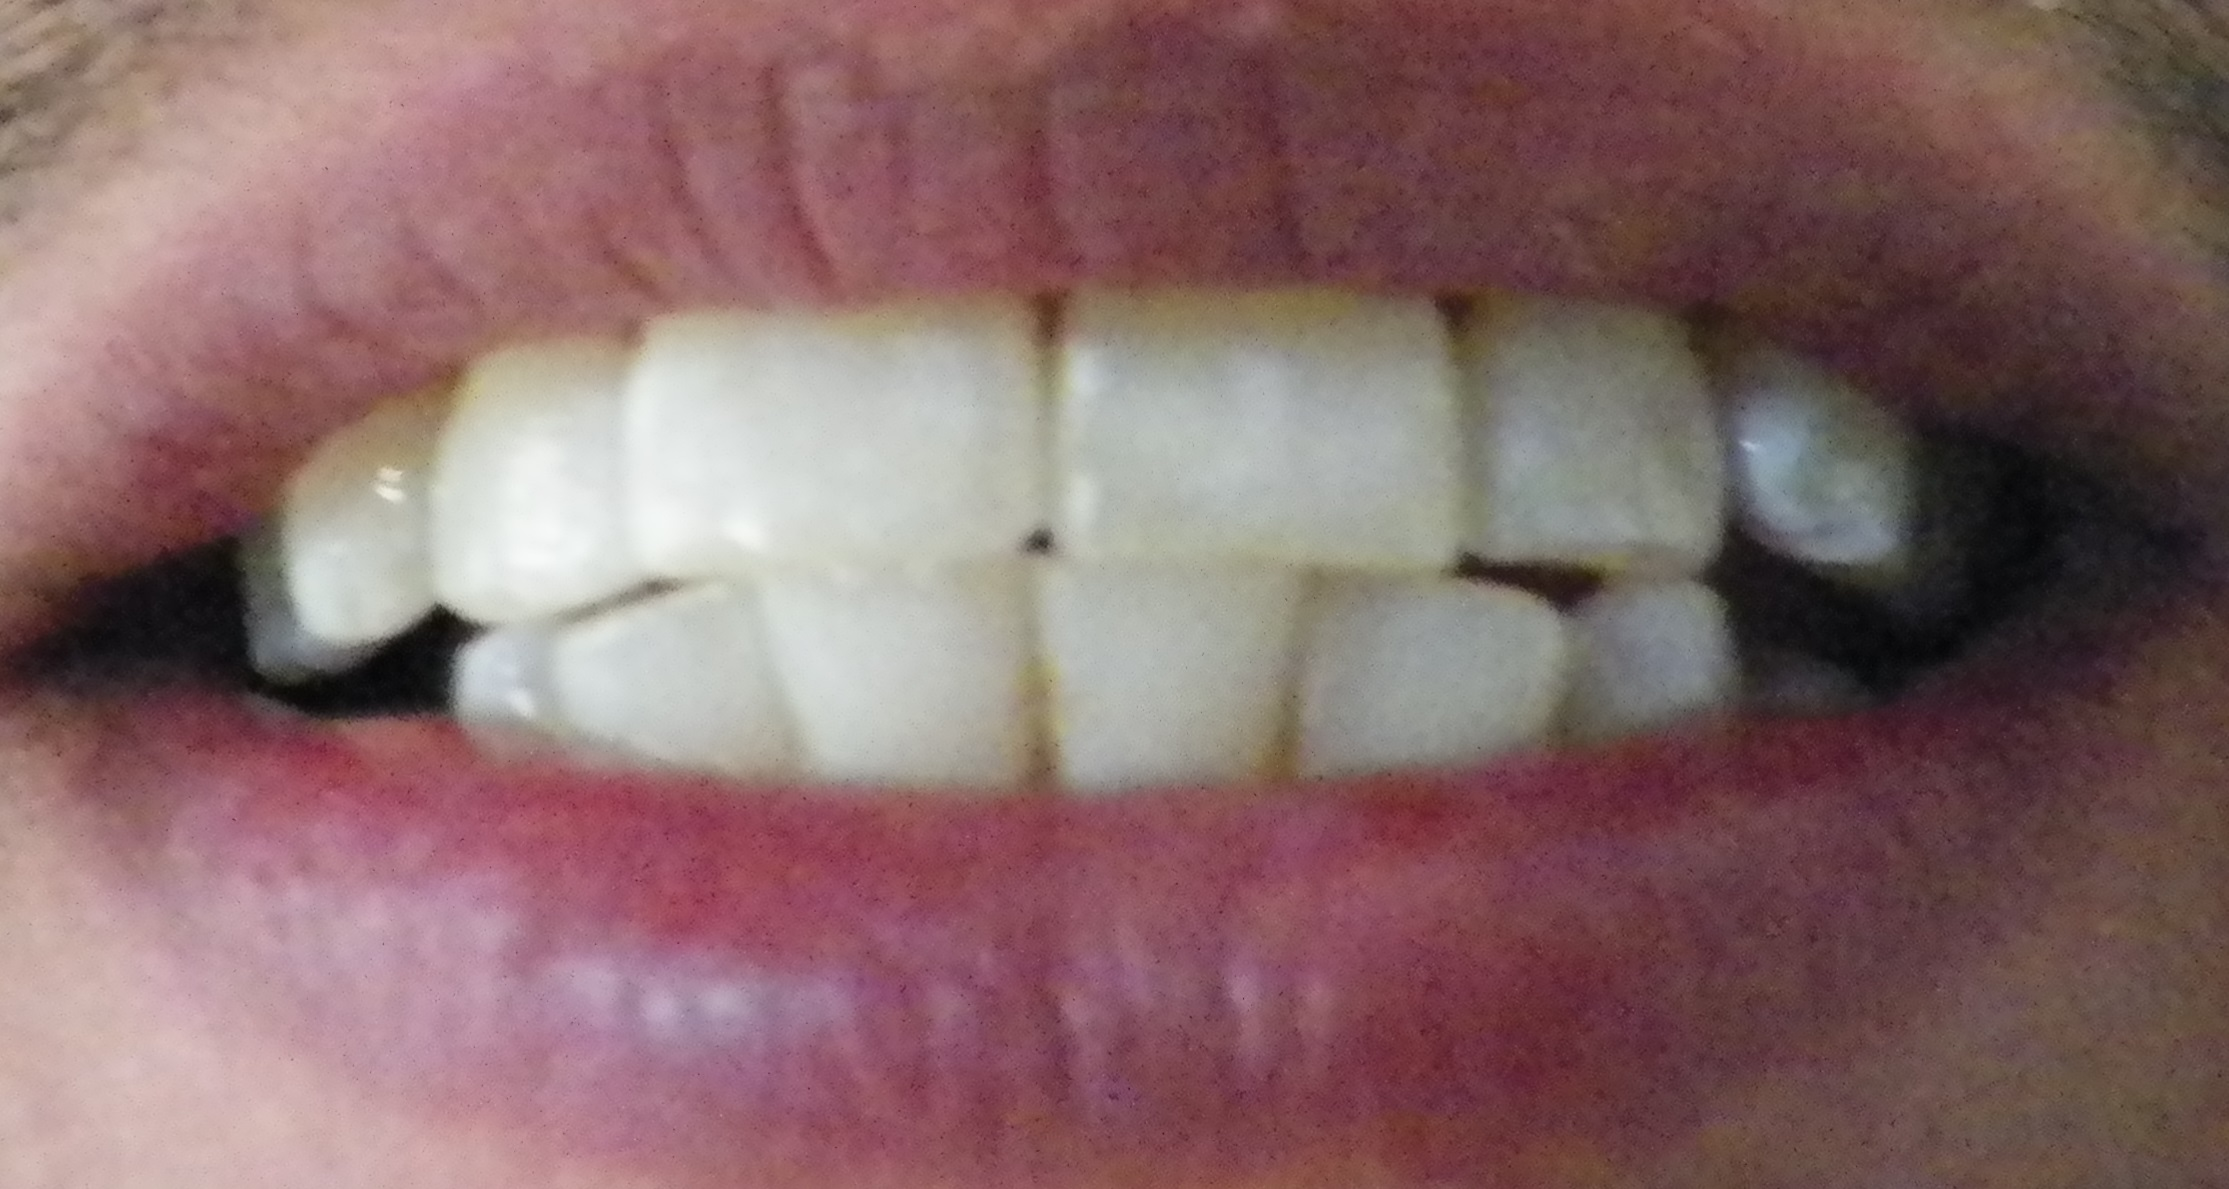boca: (240, 284, 1964, 785)
